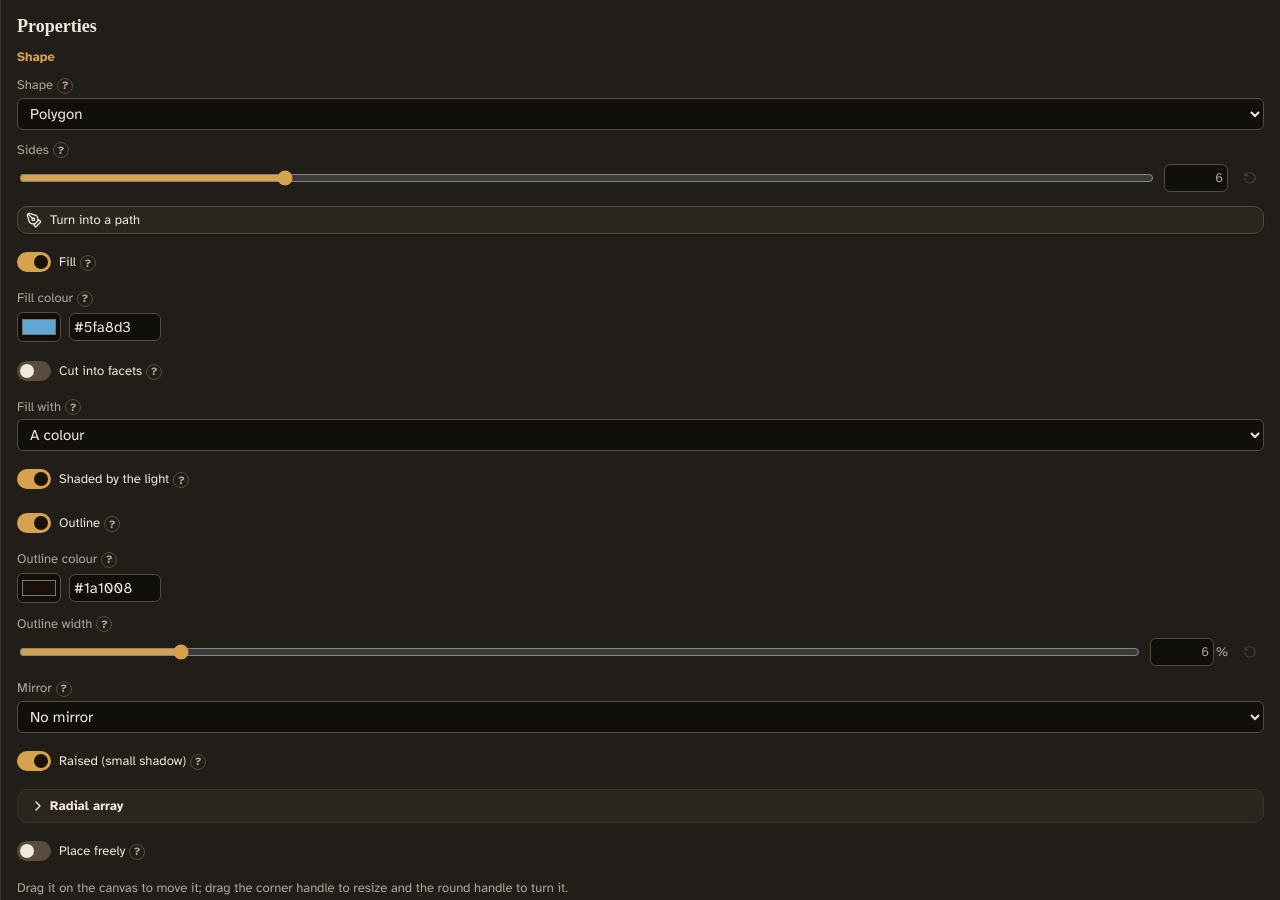
Test case: facets and the knockout › cutting a shape into facets shows its facet settings in place of shading
Expected: the field labelled "Flat top" is not shown
Click the switch labelled "Cut into facets".
click(80, 370)  # box [17,354,142,386]
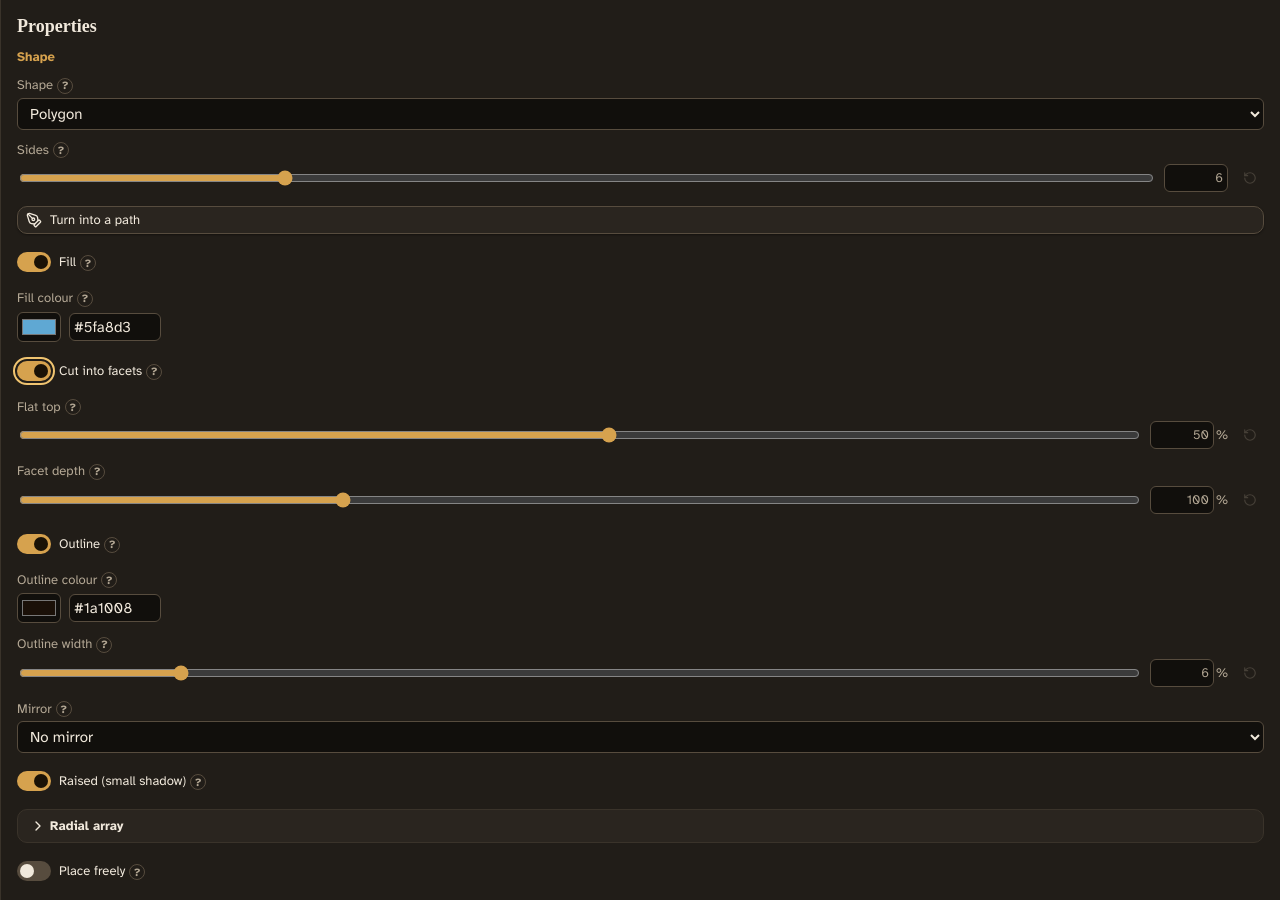
Now the slider labelled "Flat top" is shown, box [19,427,1140,443]
Now the text "Shaded by the light" is gone
